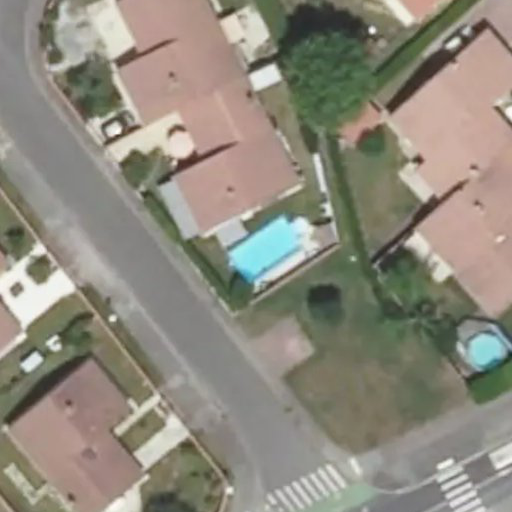pool: (223, 215, 314, 287), (461, 325, 509, 376)
